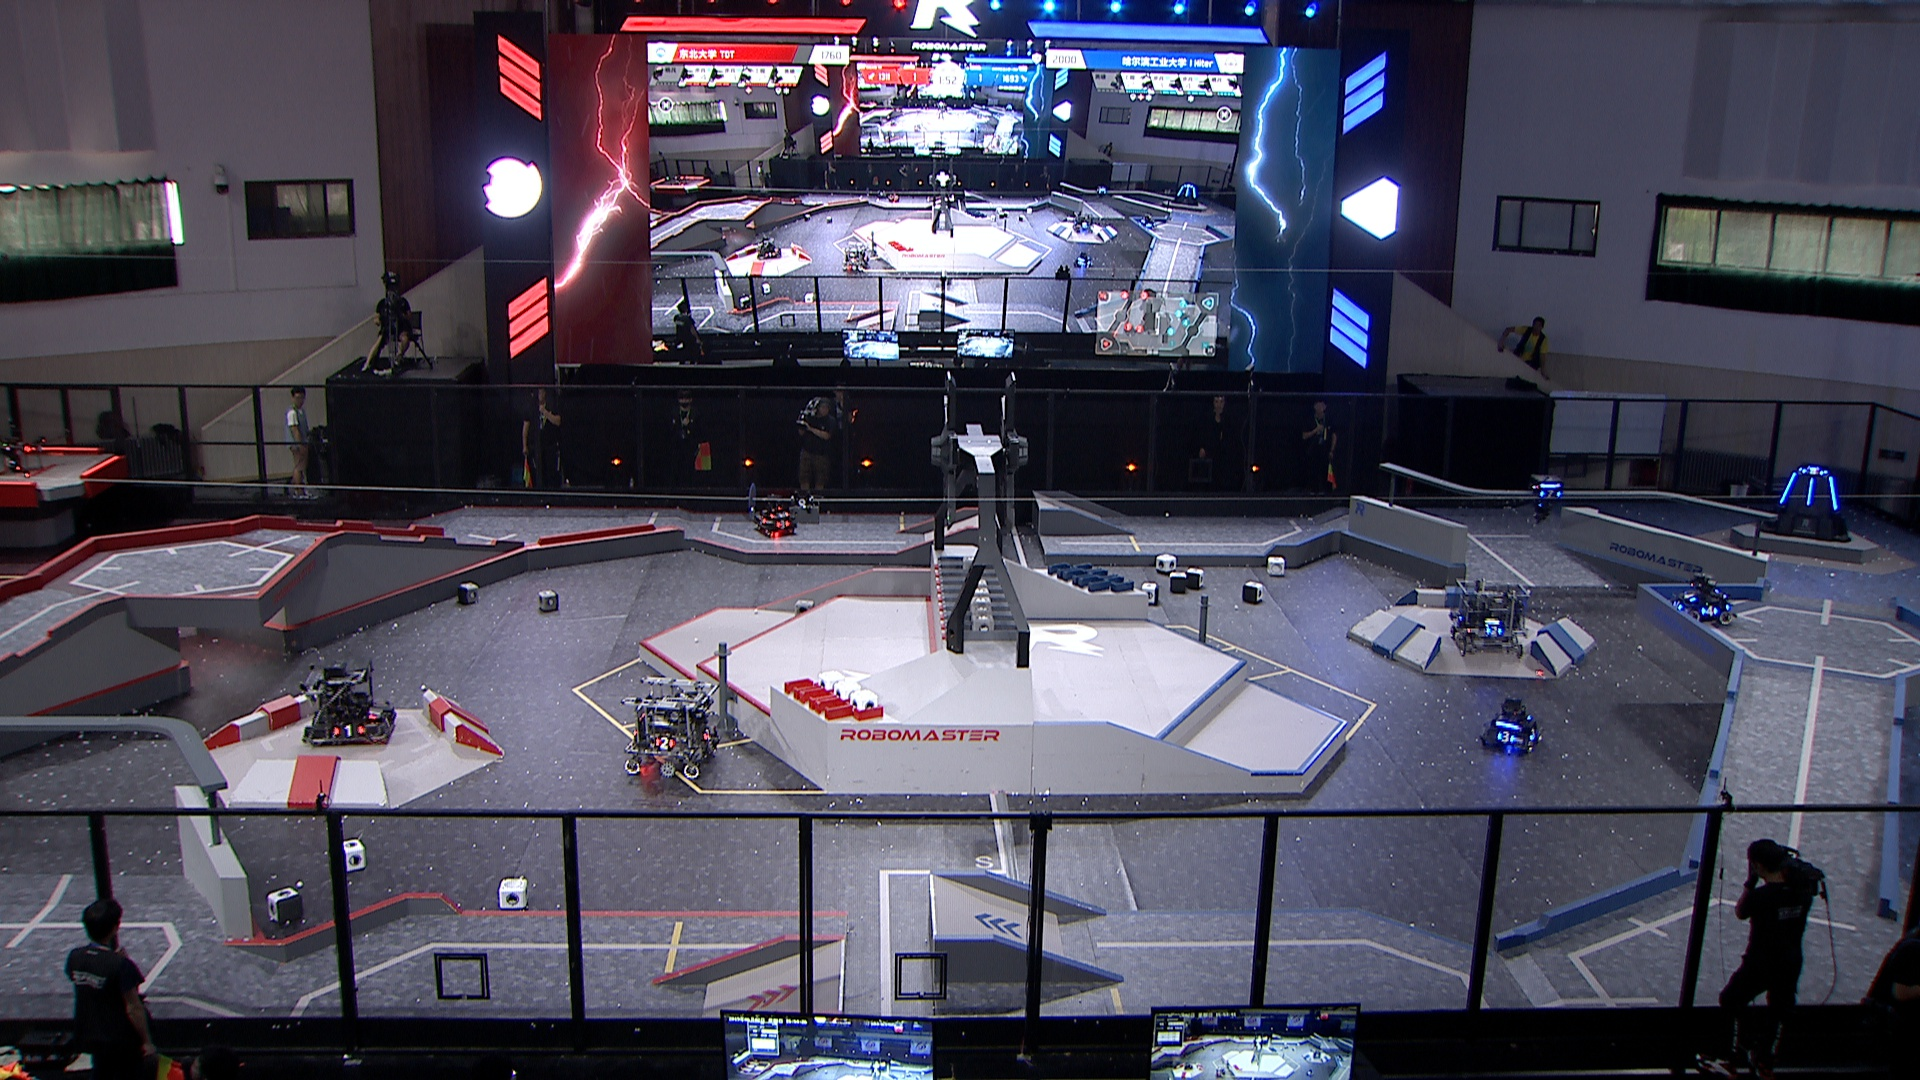armor: (1778, 469, 1801, 504), (1825, 475, 1842, 512), (1803, 472, 1820, 508), (328, 723, 365, 738), (651, 733, 675, 756), (1538, 487, 1565, 501), (698, 727, 717, 746), (1495, 728, 1516, 746), (1698, 603, 1720, 618), (1801, 465, 1826, 479), (367, 704, 384, 723), (1680, 588, 1698, 605), (378, 713, 394, 732), (1671, 595, 1687, 613), (1485, 624, 1505, 638), (766, 508, 790, 520), (773, 517, 789, 531), (1524, 725, 1538, 742), (756, 512, 767, 527)
base: (1756, 462, 1855, 545)
car: (621, 675, 727, 782), (297, 657, 400, 750), (1447, 578, 1528, 659), (1477, 694, 1545, 756), (1665, 572, 1735, 626), (746, 495, 800, 543)
ignore: (839, 244, 872, 273), (1174, 181, 1201, 208), (756, 233, 783, 261), (1069, 248, 1096, 272), (1069, 210, 1093, 235), (1138, 211, 1158, 229)
watcher: (1524, 472, 1567, 526)
